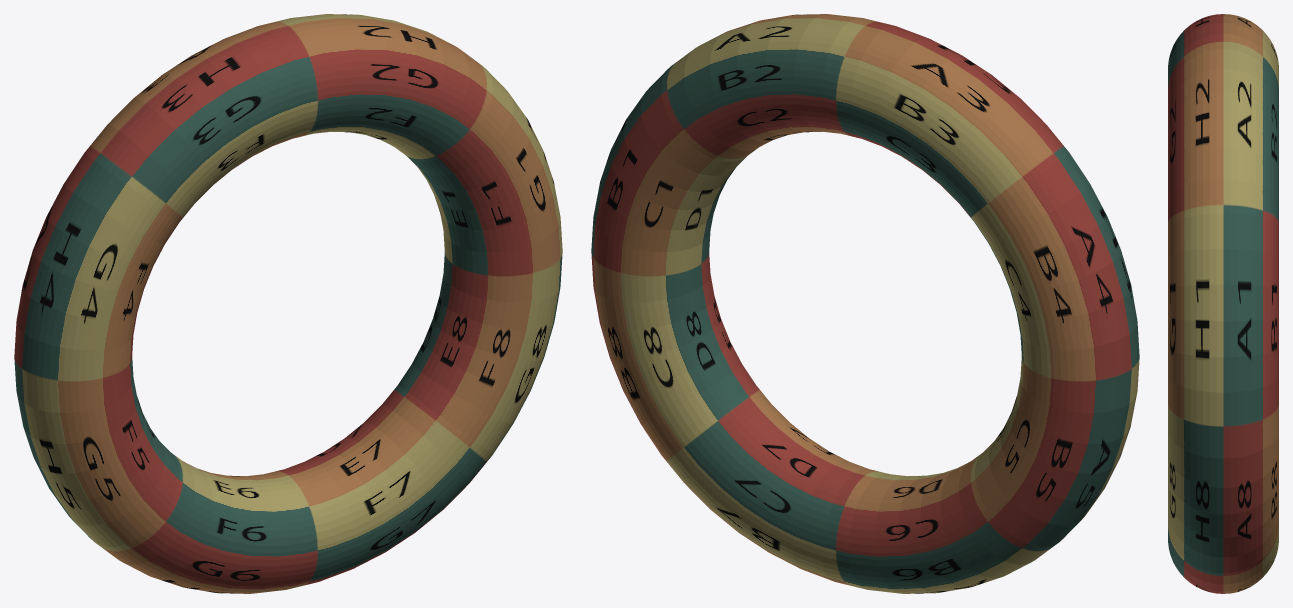
The model's file is texture_torus_R28_r18.glb.
3 views of the same model, side by side, from view 1: azimuth 30°, elevation 25°; view 2: azimuth 150°, elevation 25°; view 3: azimuth 270°, elevation 25° (orthographic). The views are drawn at different scales.
Visible parts, largest first — view 1: world; view 2: world; view 3: world.
Boxes of the visible parts, x1,y1,x2,y2 form: world: (14, 14, 562, 593); world: (591, 14, 1139, 593); world: (1168, 14, 1278, 593).
Size of the model in its own units: 35.47 by 35.4 by 6.79.
1 material, 1 textured.
